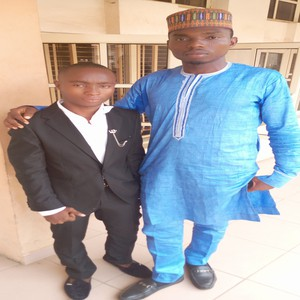Fulokoja_male_student: (23, 65, 143, 282), (157, 23, 250, 284)
